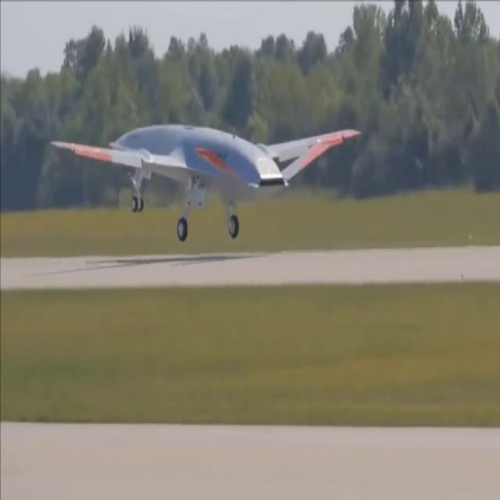uav: (50, 114, 362, 246)
